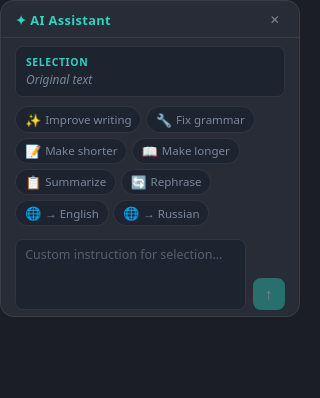
Test: OcrEditorAiPanel › shows streamed SSE errors
The image size is (320, 398).
Click the button "🔧 Fix grammar". click: (200, 120)
box: [146,106,255,133]
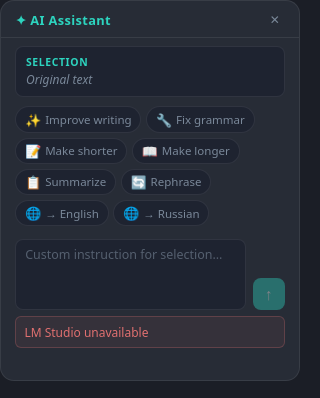
Expected: the text "LM Studio unavailable" is shown, [15,316,285,348]
